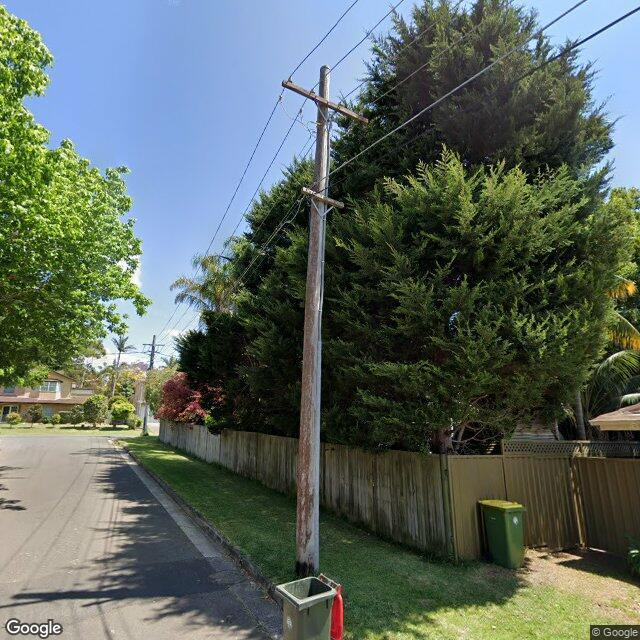crossarm: (279, 77, 372, 130), (301, 186, 343, 209), (142, 344, 165, 346)
timber-pole: (294, 64, 332, 575), (142, 334, 157, 435)
